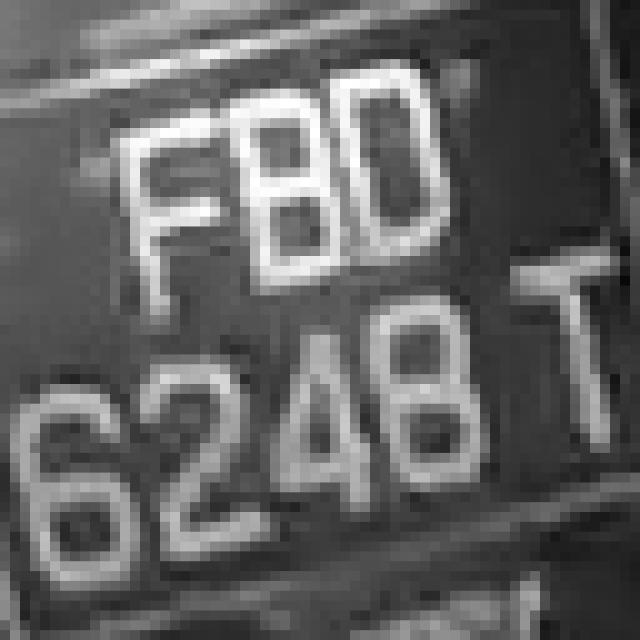0: (310, 49, 480, 286)
2: (120, 315, 290, 571)
4: (270, 335, 400, 551)
6: (0, 364, 180, 620)
8: (340, 295, 500, 512)
B: (210, 89, 330, 305)
F: (120, 89, 220, 315)
T: (8, 4, 10, 7)
